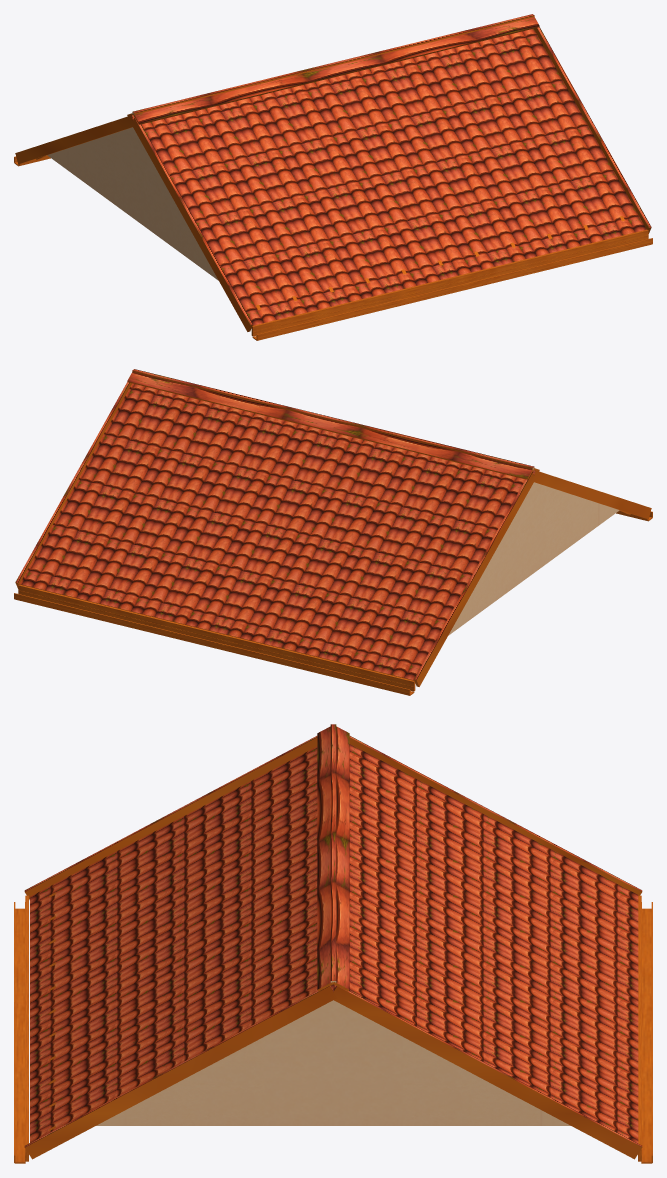
Rendered from Roof_Gable_8x8.fbx.
3 views of the same model, one above another, from view 1: azimuth 30°, elevation 25°; view 2: azimuth 150°, elevation 25°; view 3: azimuth 270°, elevation 25° (orthographic). The views are drawn at different scales.
Parts seen in each view (by area): view 1: Roof_Gable_8x8; view 2: Roof_Gable_8x8; view 3: Roof_Gable_8x8.
Boxes of the visible parts, bbox=[...] form: Roof_Gable_8x8: bbox=[14, 14, 652, 340]; Roof_Gable_8x8: bbox=[14, 369, 652, 695]; Roof_Gable_8x8: bbox=[14, 724, 652, 1163].
Size of the model in its own units: 8.82 by 2.95 by 9.26.
